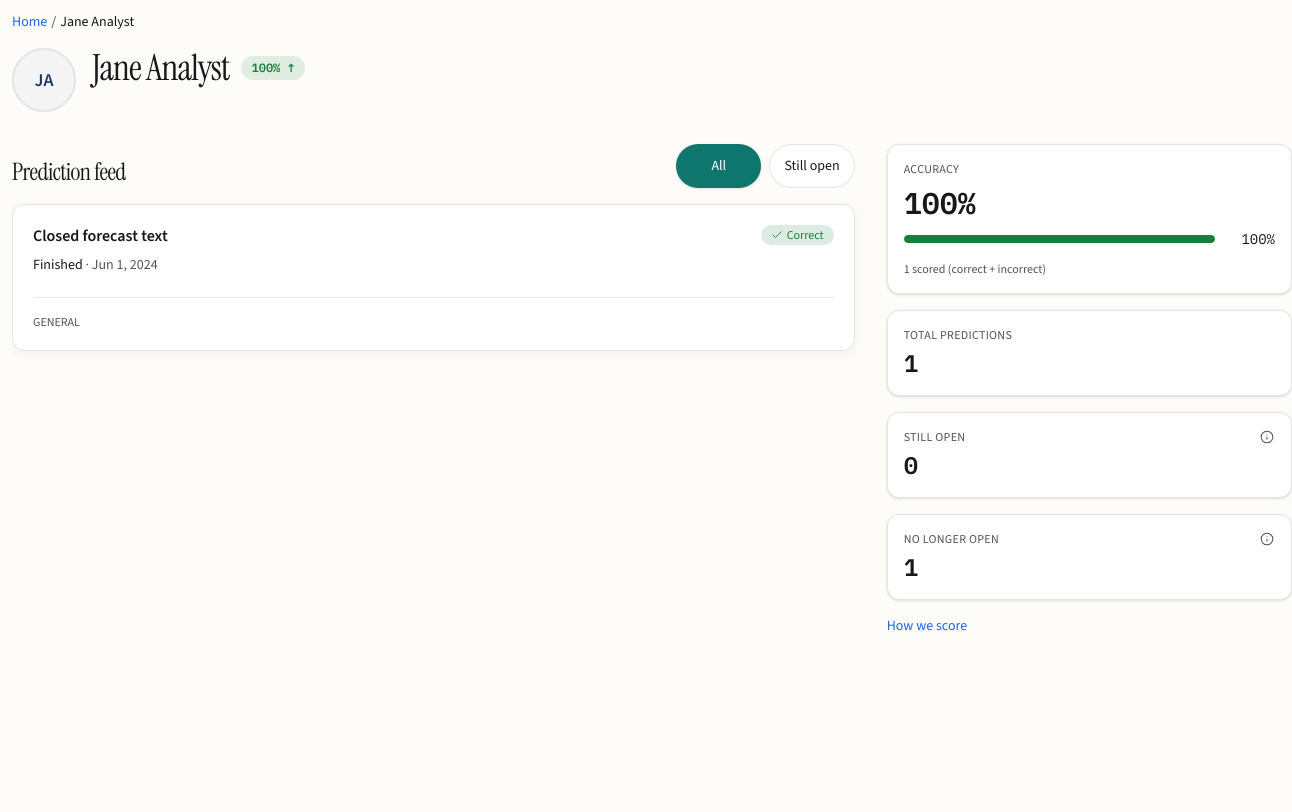
Test: SourceDetailView › clear status filter should reset feed to all
Click the radio button labelled "Still open" at (812, 166), box x1=769 y1=144 x2=855 y2=188
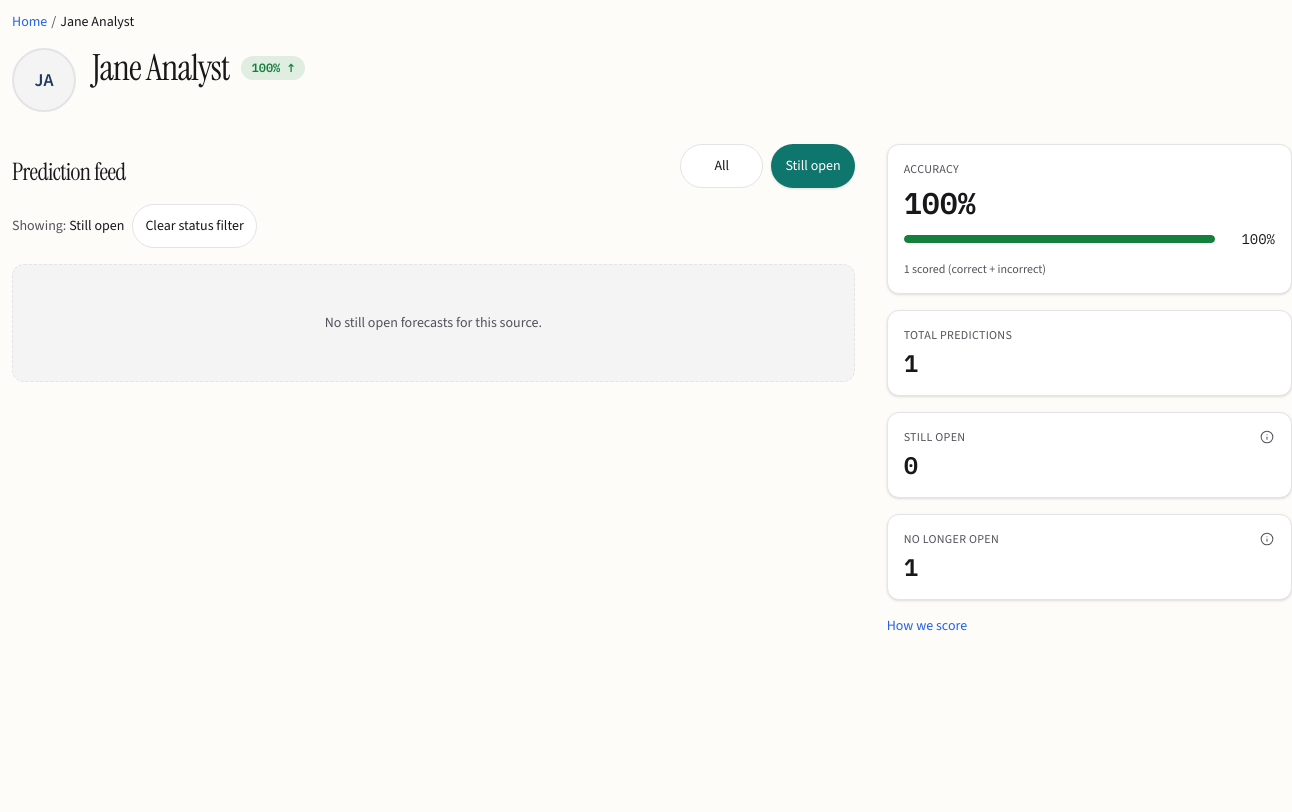
Click the button "Clear status filter" at (195, 226), box x1=132 y1=204 x2=257 y2=248
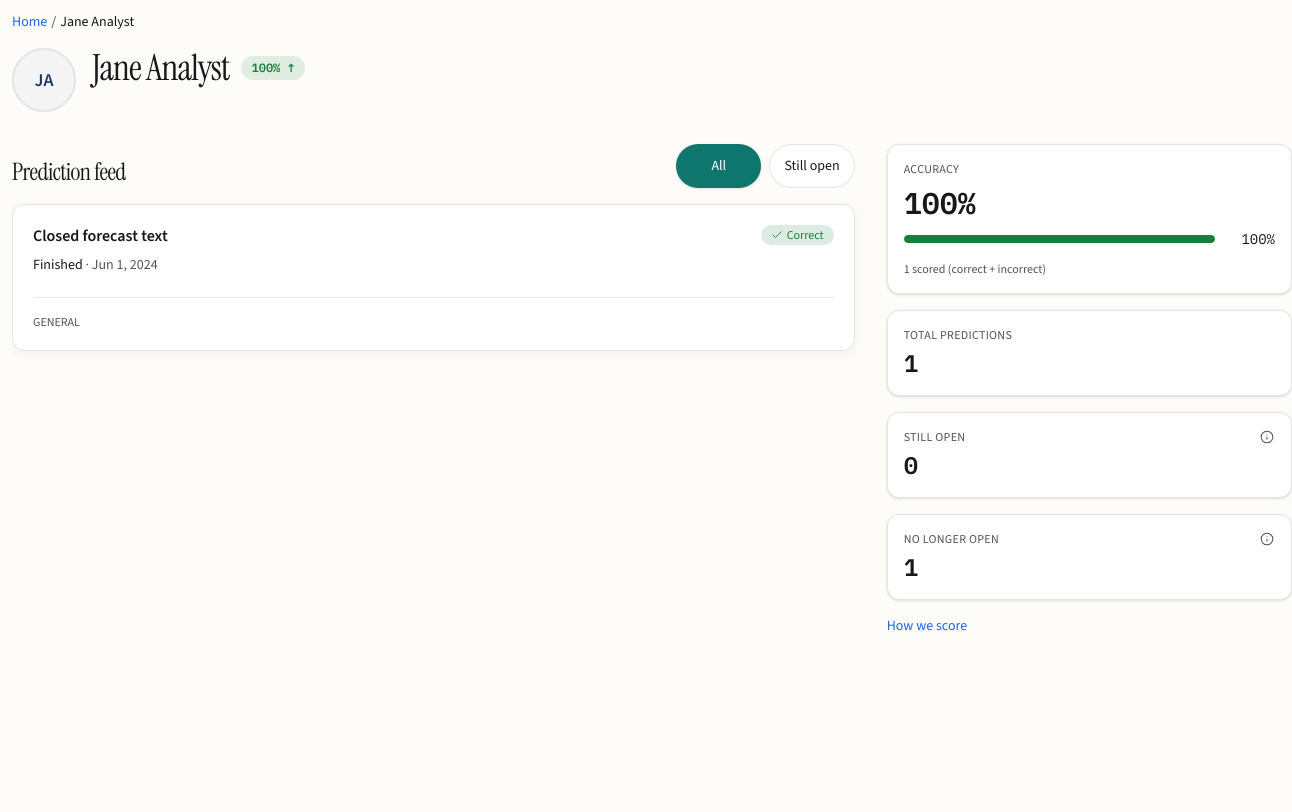
Result: the radio button labelled "All" is checked at x1=676 y1=144 x2=761 y2=188
Result: the message "Showing: Still open Clear status filter" is gone
Result: the link "Closed forecast text" is shown at x1=33 y1=225 x2=168 y2=246
